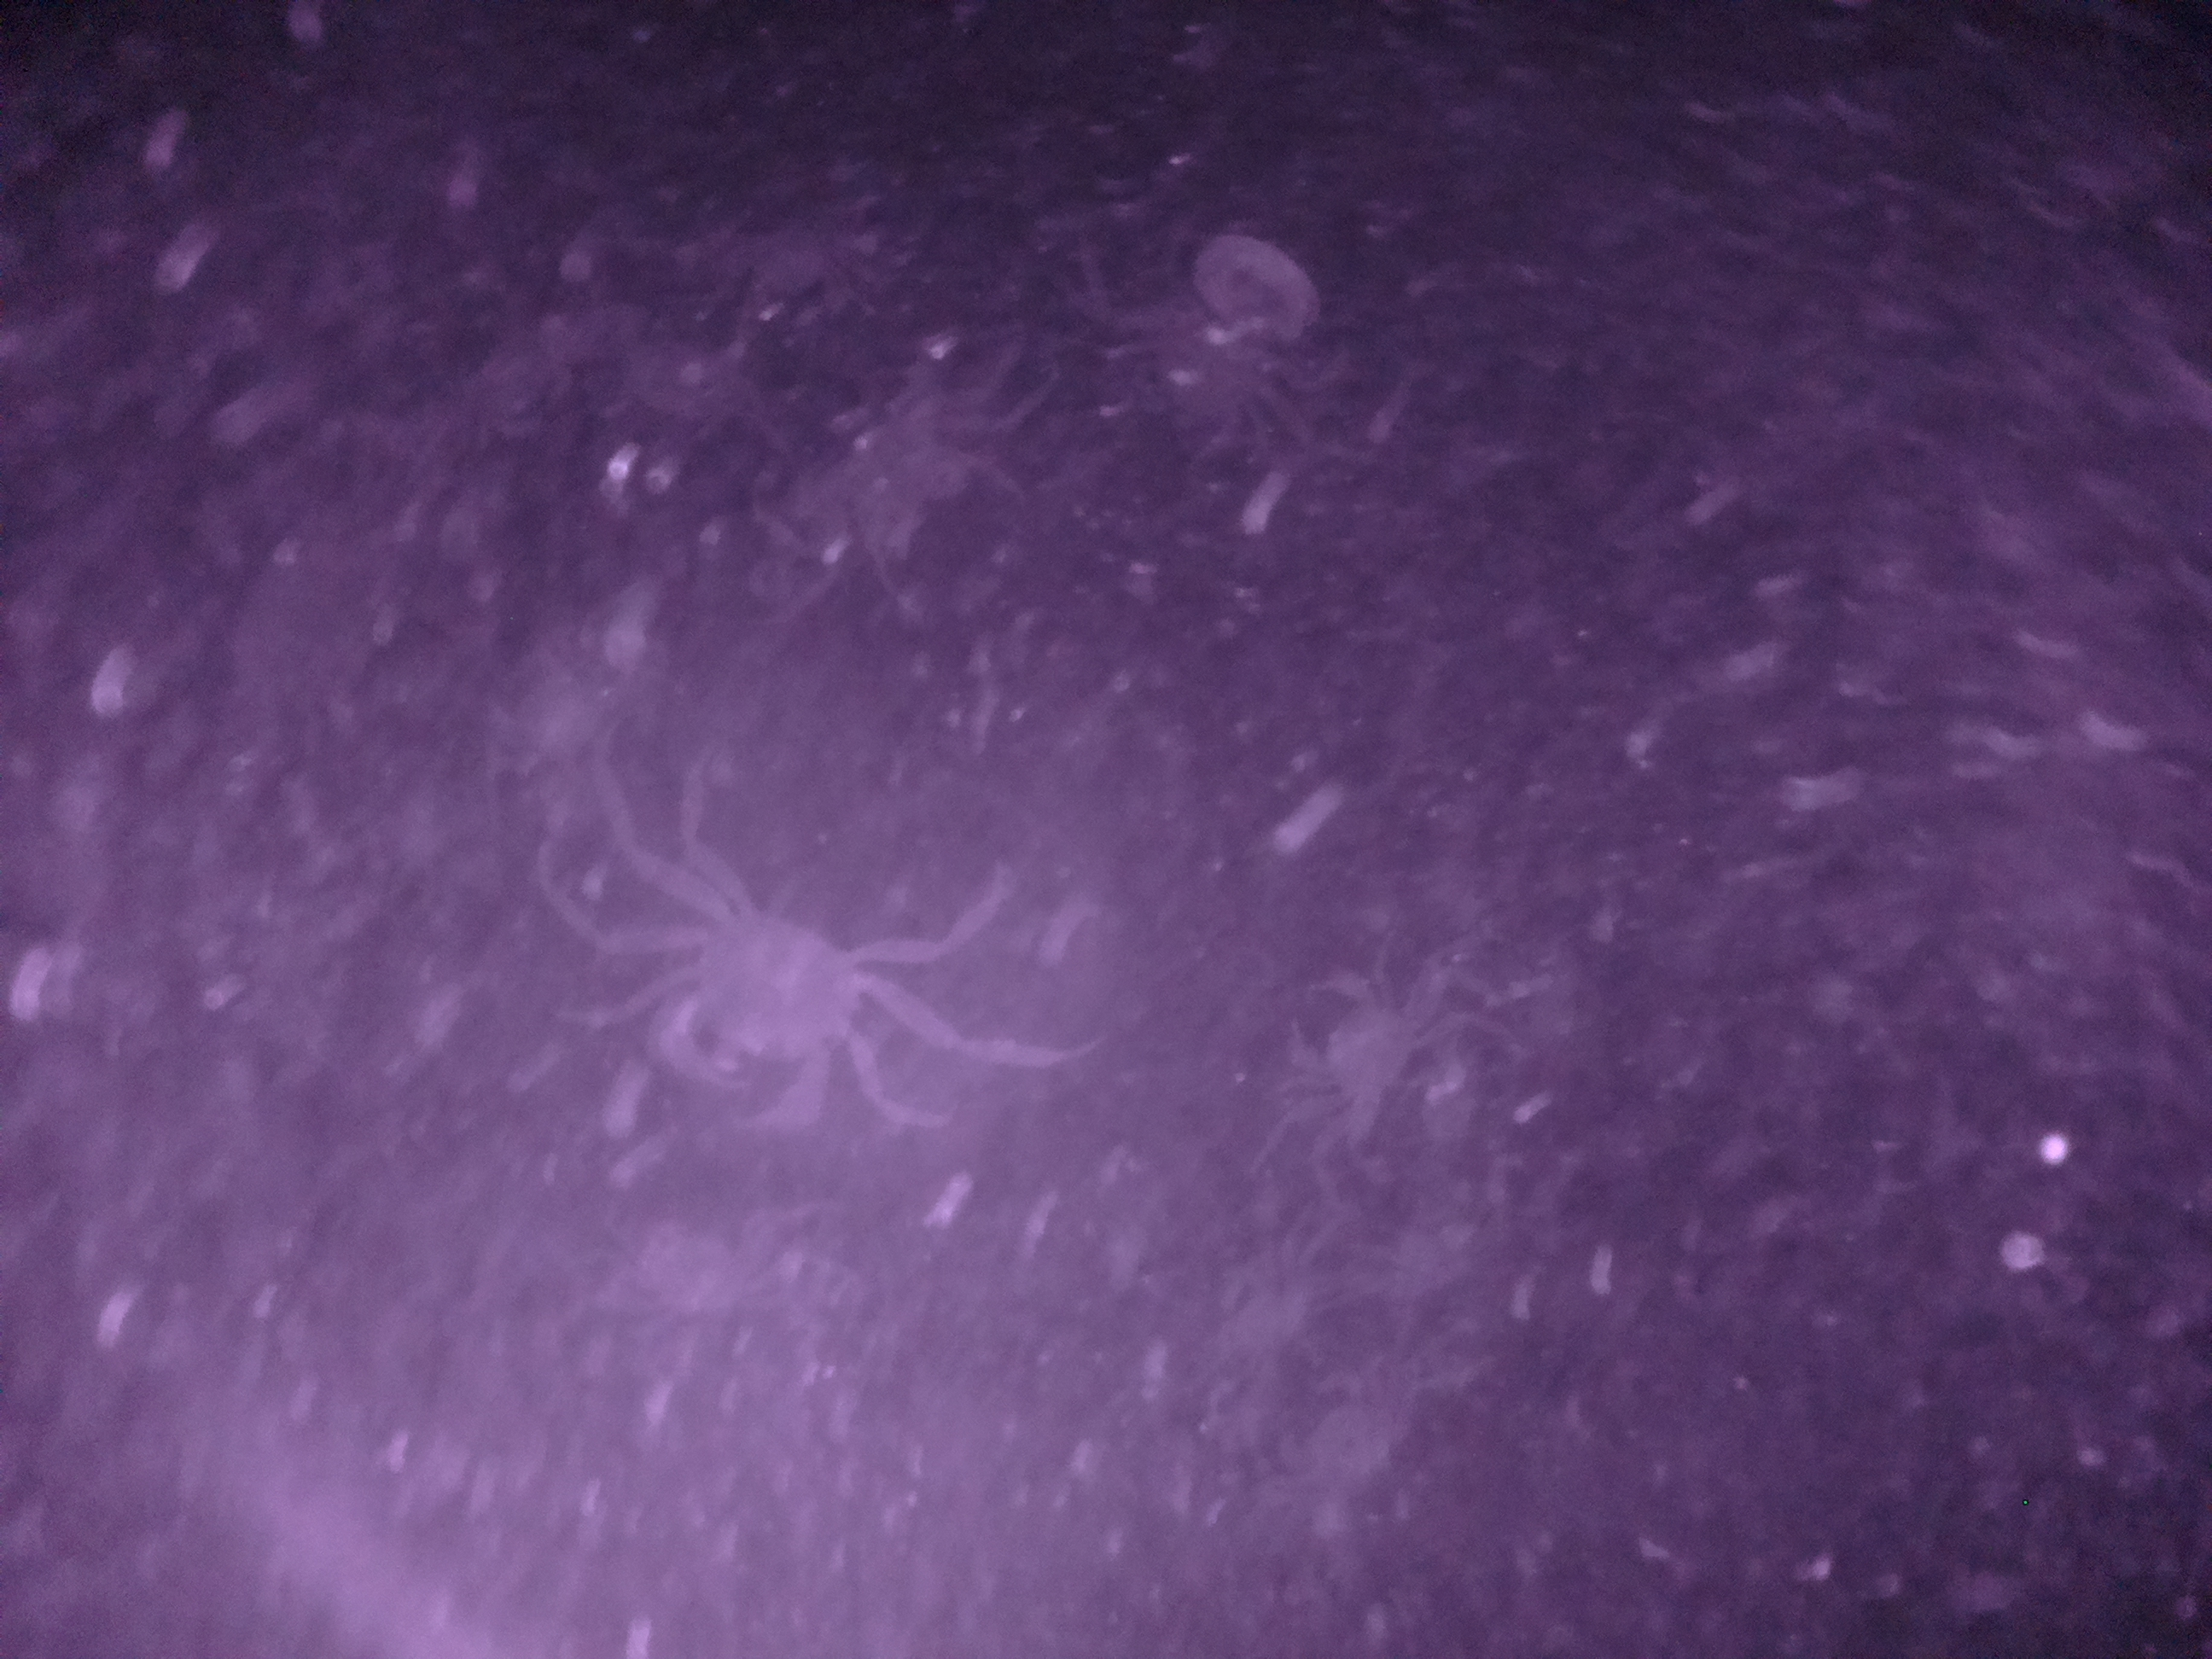Crab: (648, 850, 883, 1154), (1261, 929, 1447, 1157)
